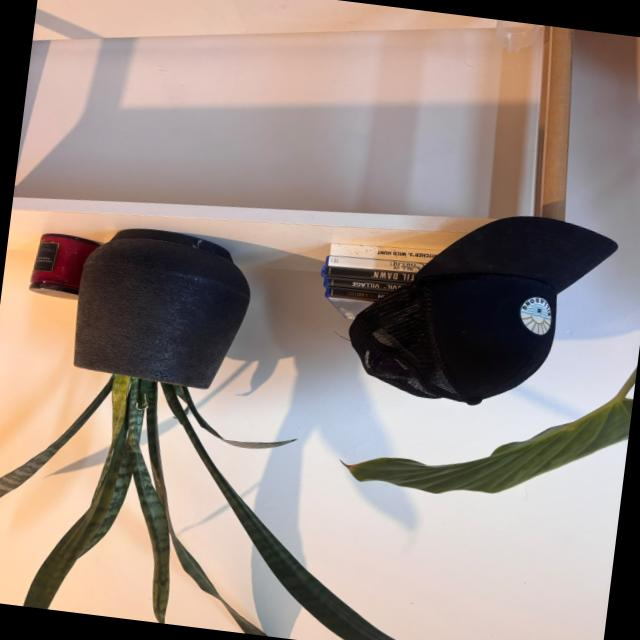Gorra: (332, 189, 629, 426)
